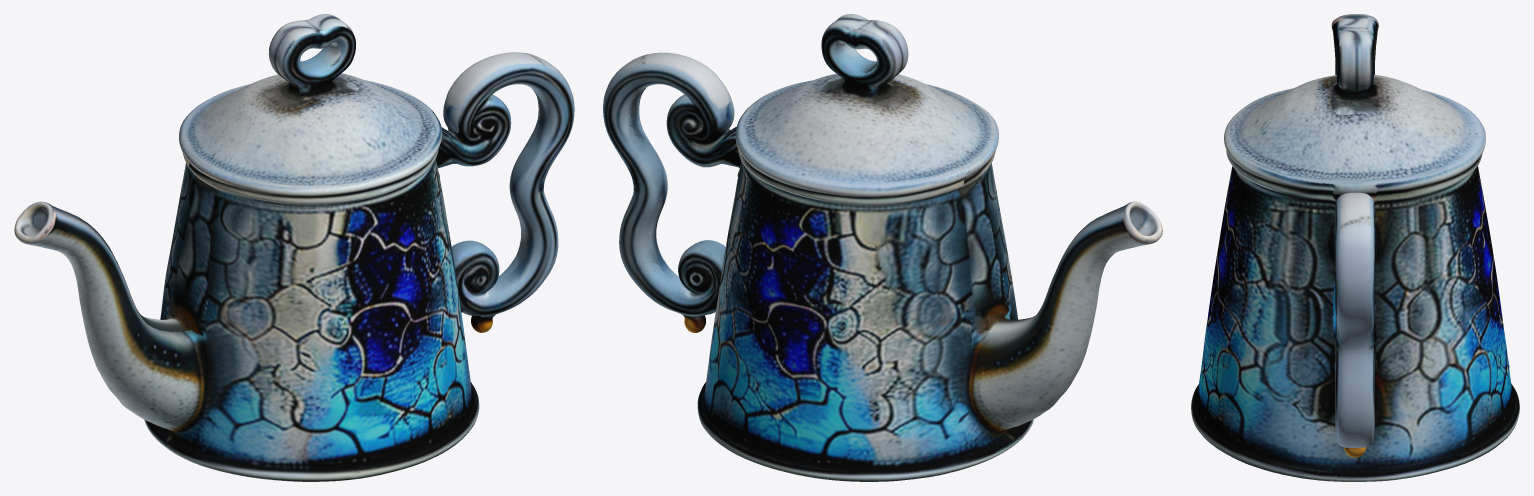
Rendered from goodcase0303_187.glb.
3 renders of one model, left to right at view 1: azimuth 30°, elevation 25°; view 2: azimuth 150°, elevation 25°; view 3: azimuth 270°, elevation 25°, orthographic.
Visible parts, largest first — view 1: object.001; view 2: object.001; view 3: object.001.
Boxes of the visible parts, x1=… form: object.001: x1=14, y1=14, x2=574, y2=481; object.001: x1=603, y1=14, x2=1162, y2=481; object.001: x1=1191, y1=14, x2=1519, y2=481.
Size of the model in its own units: 1.13 by 0.7689 by 0.5878.
Materials: 1 (1 with a texture image).
